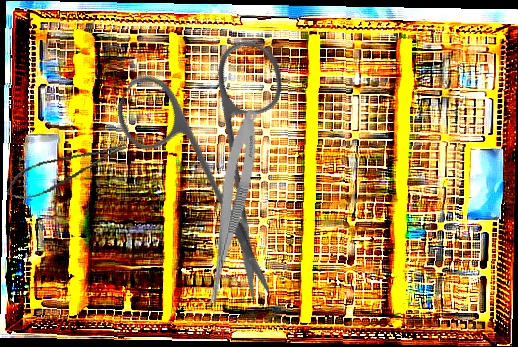Iris Scissors: (67, 0, 369, 304)
Micro Scissor: (199, 107, 265, 319), (1, 139, 134, 205)
